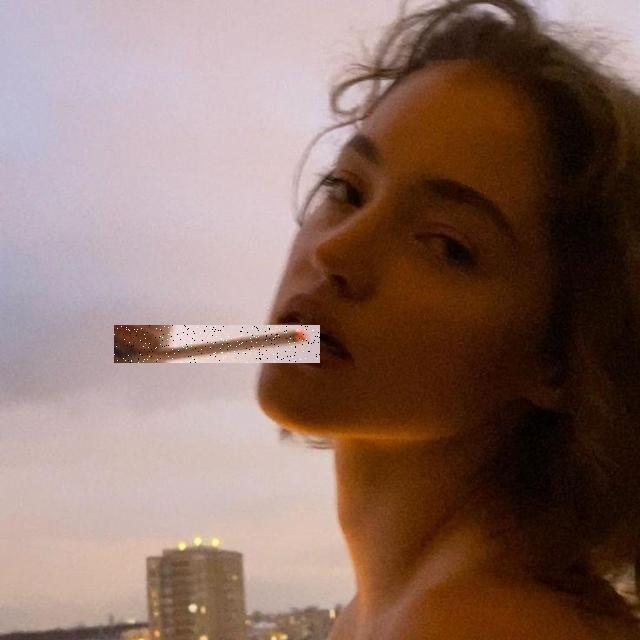smoking: (114, 325, 320, 363)
